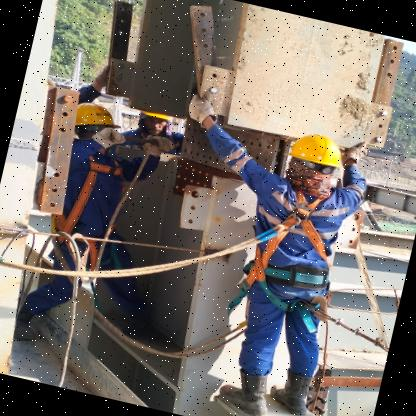bota: (211, 361, 279, 416), (265, 366, 319, 416), (7, 302, 46, 345)
capacete: (278, 124, 354, 177), (66, 94, 128, 138)
